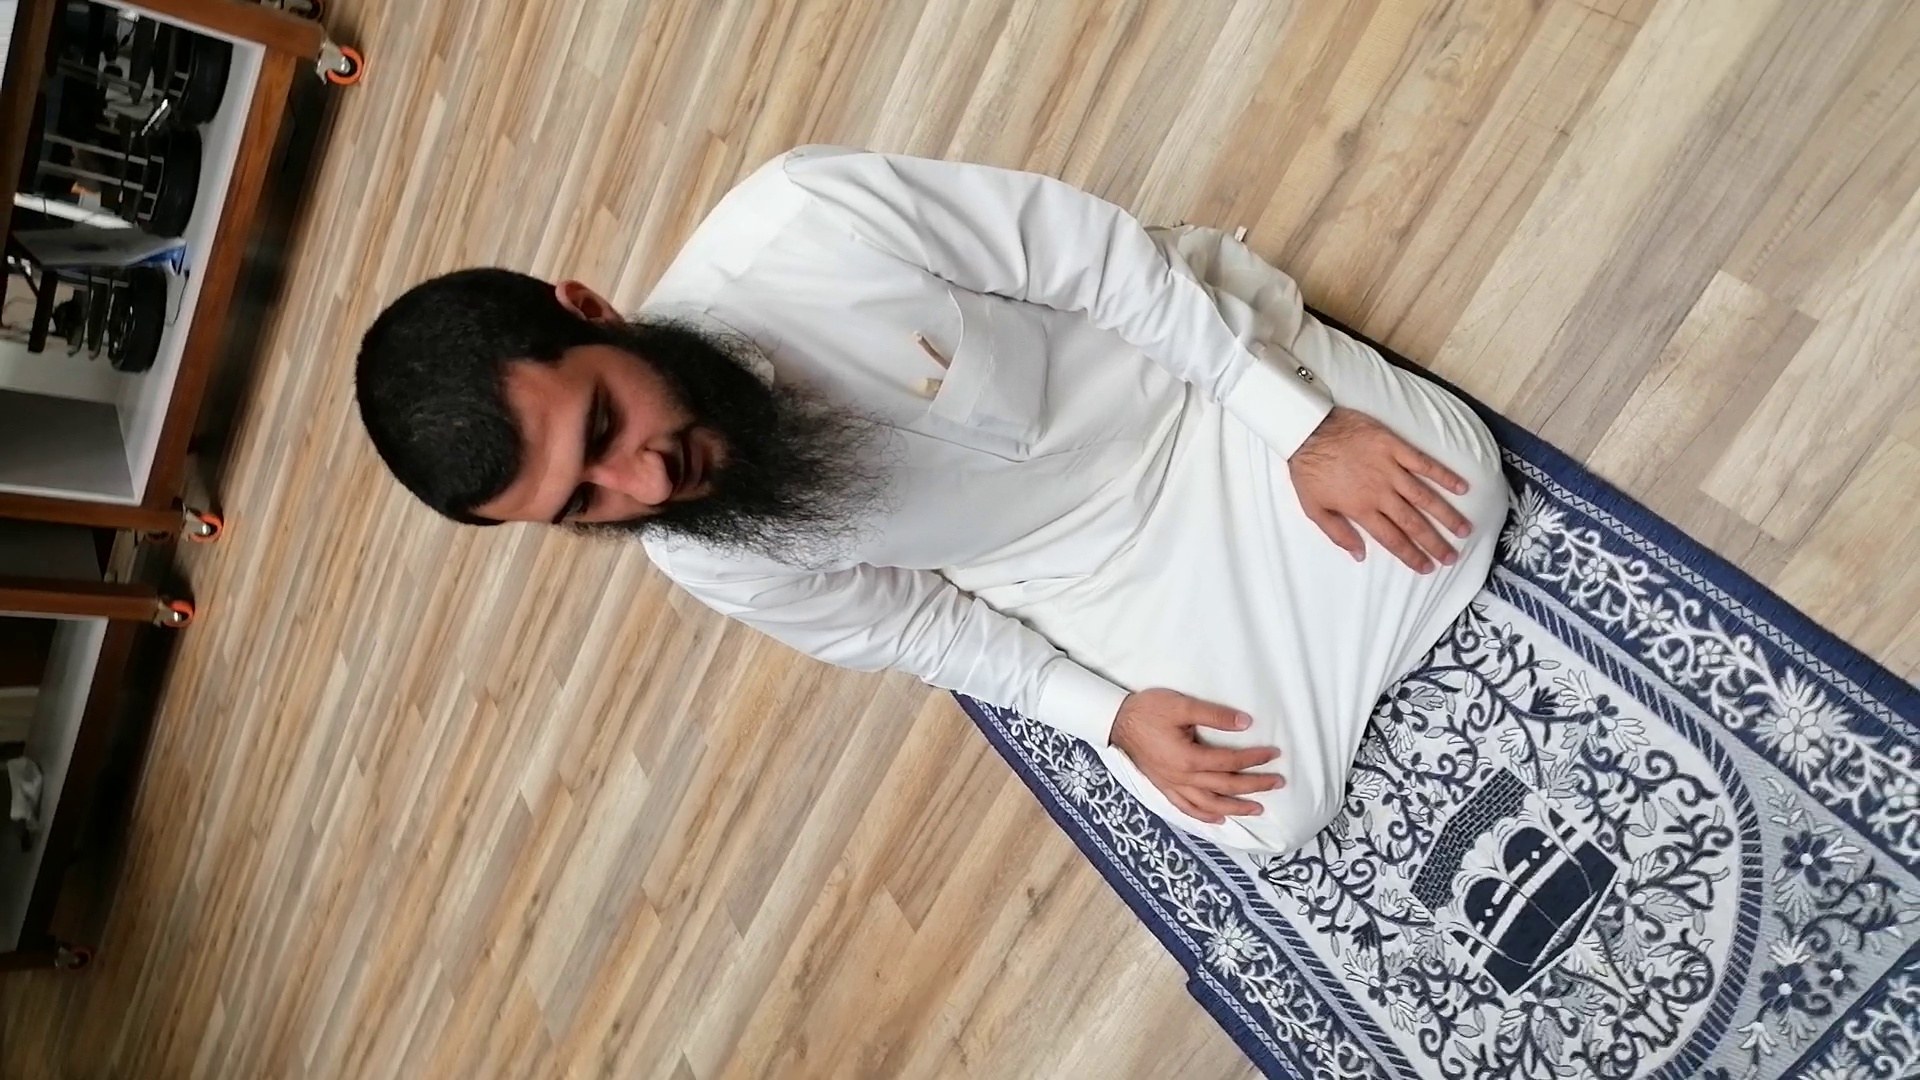sitting: (340, 117, 1756, 851)
